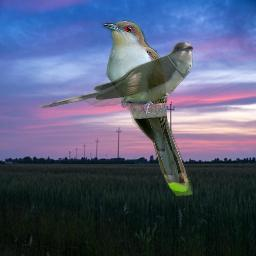Cuckoo: (102, 20, 193, 196), (38, 40, 193, 111)
